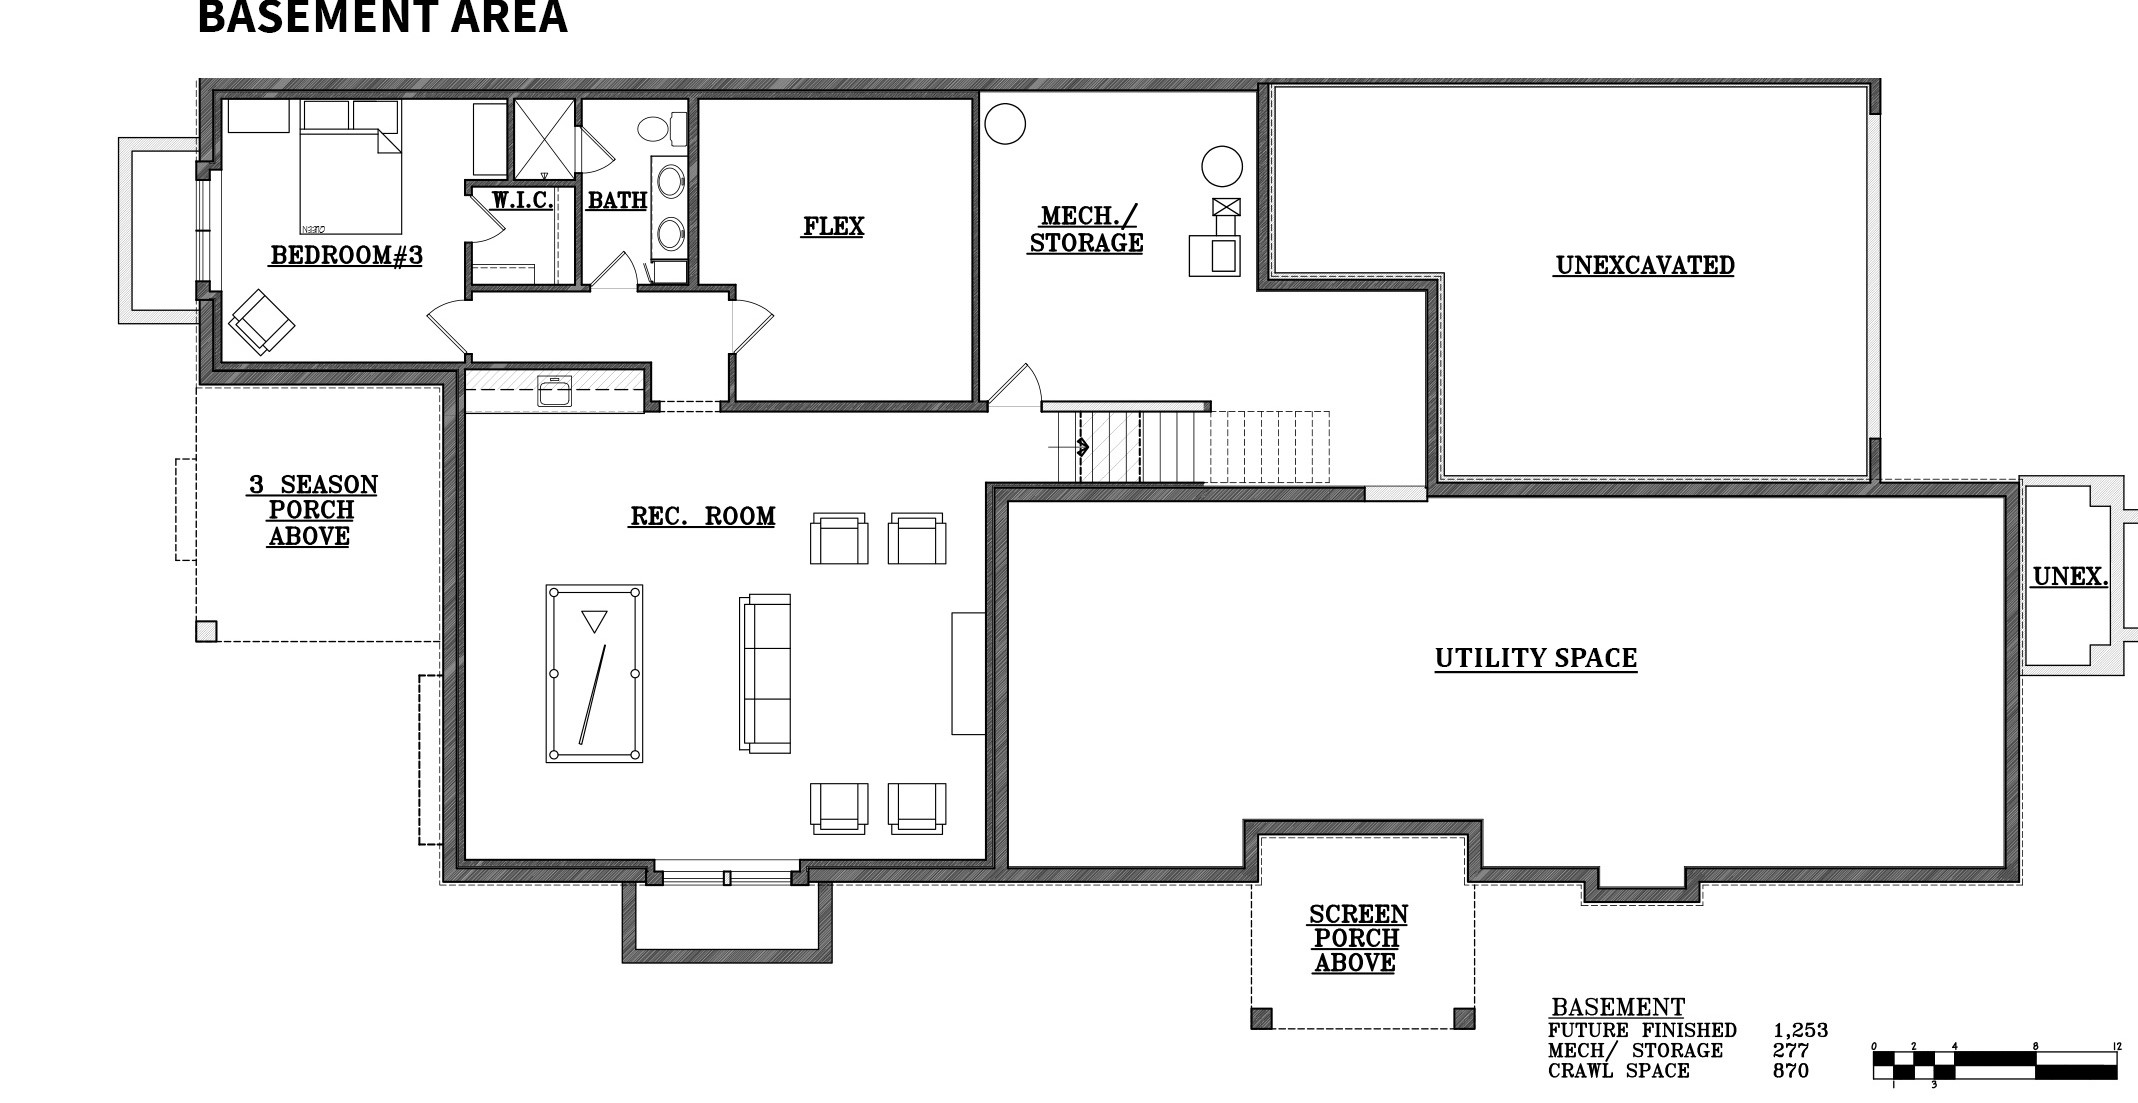room: (436, 360, 1006, 886), (686, 77, 992, 414), (196, 77, 495, 381)
